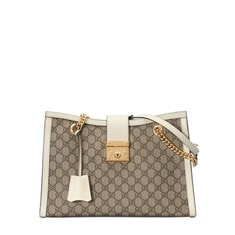Gucci: (35, 106, 202, 234), (103, 173, 185, 221)
